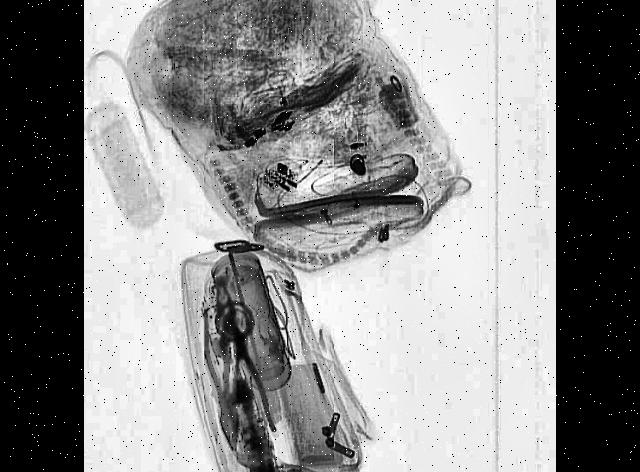Pliers: (215, 289, 278, 443), (200, 301, 247, 453)
